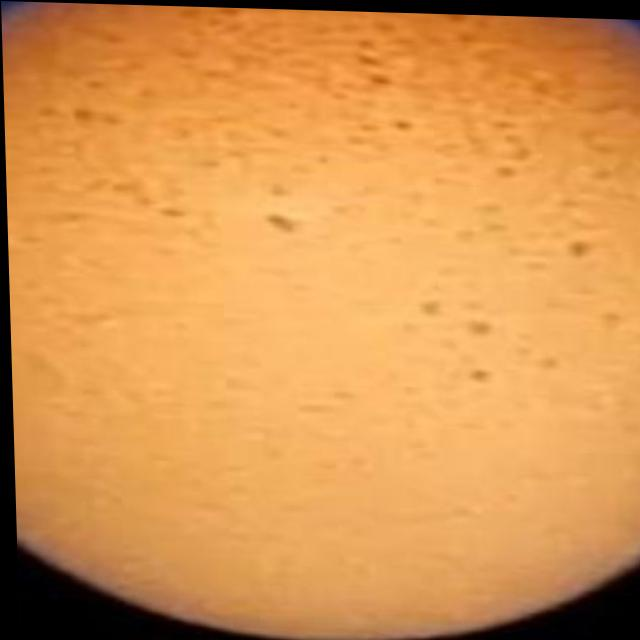unfresh: (0, 0, 640, 618)
